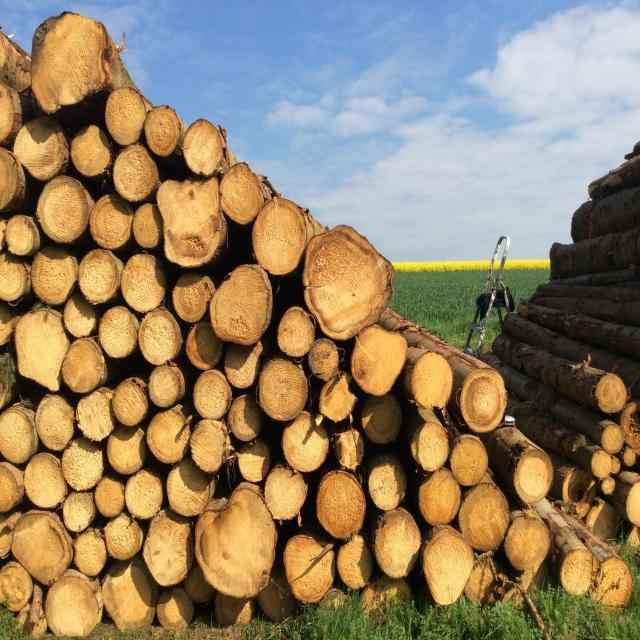wood-log: (306, 228, 390, 340), (197, 482, 278, 598), (29, 11, 106, 110), (162, 176, 230, 266), (212, 264, 275, 344), (11, 310, 69, 395), (253, 196, 310, 273), (14, 514, 71, 587), (422, 528, 474, 608), (104, 560, 161, 630), (350, 324, 407, 394), (46, 569, 104, 636), (9, 114, 67, 180), (39, 176, 94, 242), (145, 512, 193, 586), (371, 506, 420, 578), (460, 484, 512, 551), (318, 472, 368, 541), (258, 356, 310, 419), (216, 165, 268, 226), (463, 371, 509, 436), (281, 413, 329, 474), (170, 459, 219, 518), (120, 254, 168, 314), (32, 246, 79, 306), (506, 512, 552, 572), (112, 147, 158, 205), (408, 351, 456, 406), (139, 309, 184, 366), (106, 86, 150, 144), (62, 337, 107, 393), (418, 468, 461, 526), (264, 465, 308, 521), (23, 454, 67, 509), (144, 407, 188, 462), (513, 447, 554, 505), (90, 193, 132, 249), (184, 120, 226, 176), (80, 250, 122, 304), (35, 395, 75, 451), (258, 572, 300, 625), (72, 125, 115, 176), (62, 439, 105, 490), (97, 308, 138, 360), (191, 420, 231, 473), (0, 406, 37, 463), (174, 270, 214, 322), (74, 390, 114, 442), (595, 556, 637, 605), (193, 370, 234, 420), (359, 395, 400, 445), (276, 308, 316, 359), (410, 422, 450, 473), (368, 460, 407, 512), (448, 436, 488, 486), (322, 371, 361, 421), (187, 320, 224, 372), (338, 534, 372, 590), (227, 393, 265, 443), (143, 108, 181, 158), (104, 512, 143, 560), (221, 342, 260, 389), (125, 471, 163, 519), (108, 423, 145, 472), (113, 380, 150, 428), (560, 549, 596, 596), (75, 528, 108, 578), (0, 561, 33, 611), (148, 365, 185, 408), (62, 295, 98, 338), (0, 146, 22, 211), (308, 337, 341, 380), (7, 215, 40, 257), (132, 202, 162, 248), (61, 491, 95, 531), (0, 253, 28, 301), (236, 440, 268, 482), (94, 476, 125, 518), (182, 567, 213, 604), (0, 462, 22, 514), (0, 78, 17, 142), (0, 353, 17, 413), (214, 594, 245, 626), (592, 448, 618, 479), (0, 300, 15, 346), (602, 424, 622, 454), (627, 480, 640, 525)
